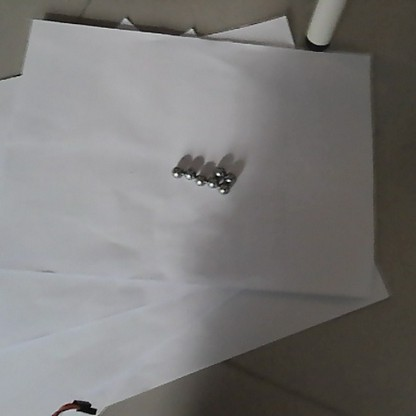ironball: (215, 183, 230, 196), (202, 178, 217, 191), (212, 164, 224, 180), (170, 165, 181, 180), (191, 174, 204, 185), (182, 169, 193, 180), (224, 174, 235, 184)
